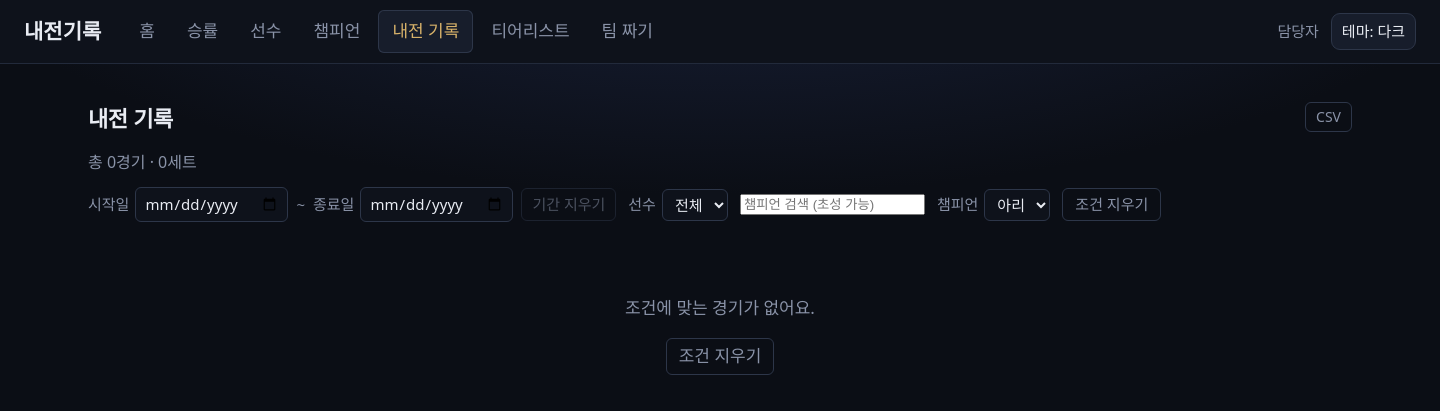
Test: RecordsPage › 필터가 있고 결과가 없으면 안내와 조건 지우기를 보여 주고, 누르면 URL을 비운다
Expected: the text "조건에 맞는 경기가 없어요." is shown, [625,296,815,319]
Click the button "조건 지우기" below "조건에 맞는 경기가 없어요.": (720, 357) [666,338,774,375]
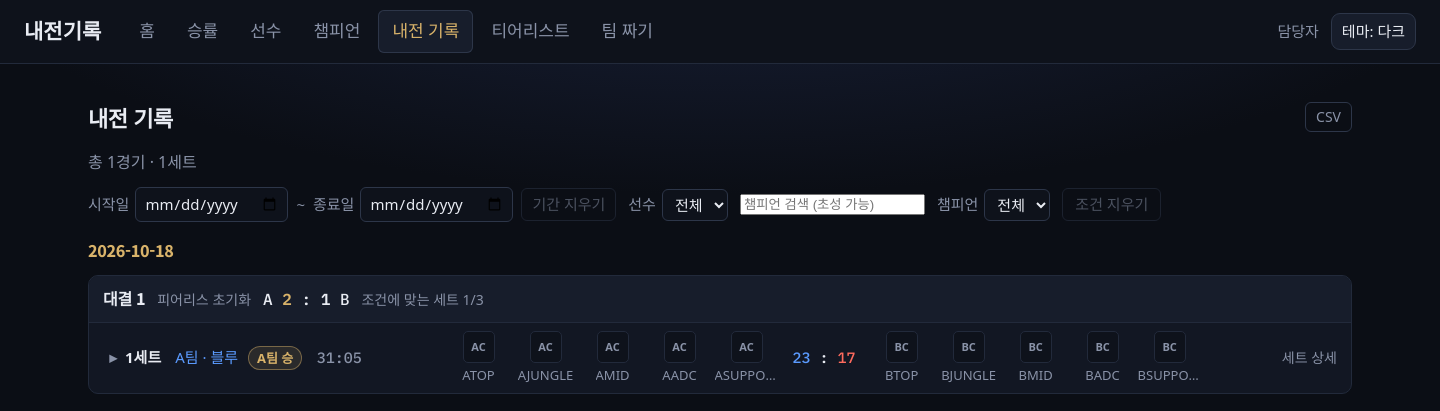
Now the link "대결 1" is shown, box [103,286,145,310]
